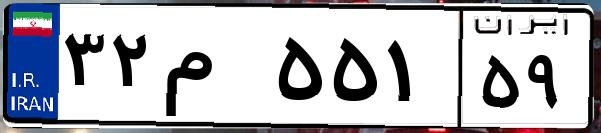1: (385, 28, 445, 110)
2: (110, 28, 158, 98)
3: (57, 26, 110, 100)
5: (270, 28, 330, 110), (330, 28, 385, 110), (475, 38, 525, 113)
9: (525, 38, 570, 115)
م: (158, 20, 270, 120)
